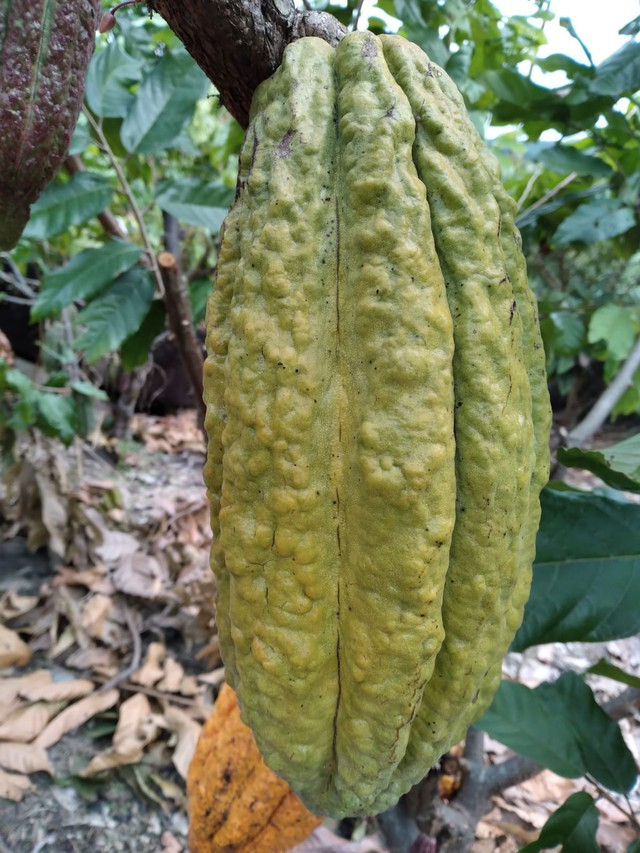Health: (190, 23, 559, 826)
